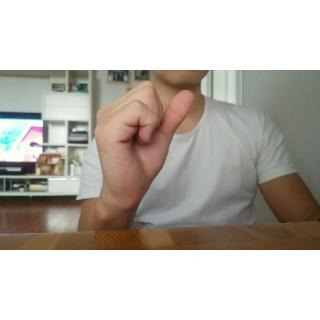WAW: (91, 75, 204, 224)
